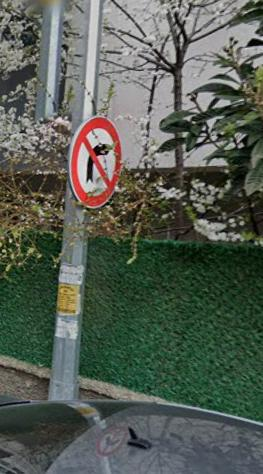rightturnsareforbidden: (68, 108, 123, 204)
